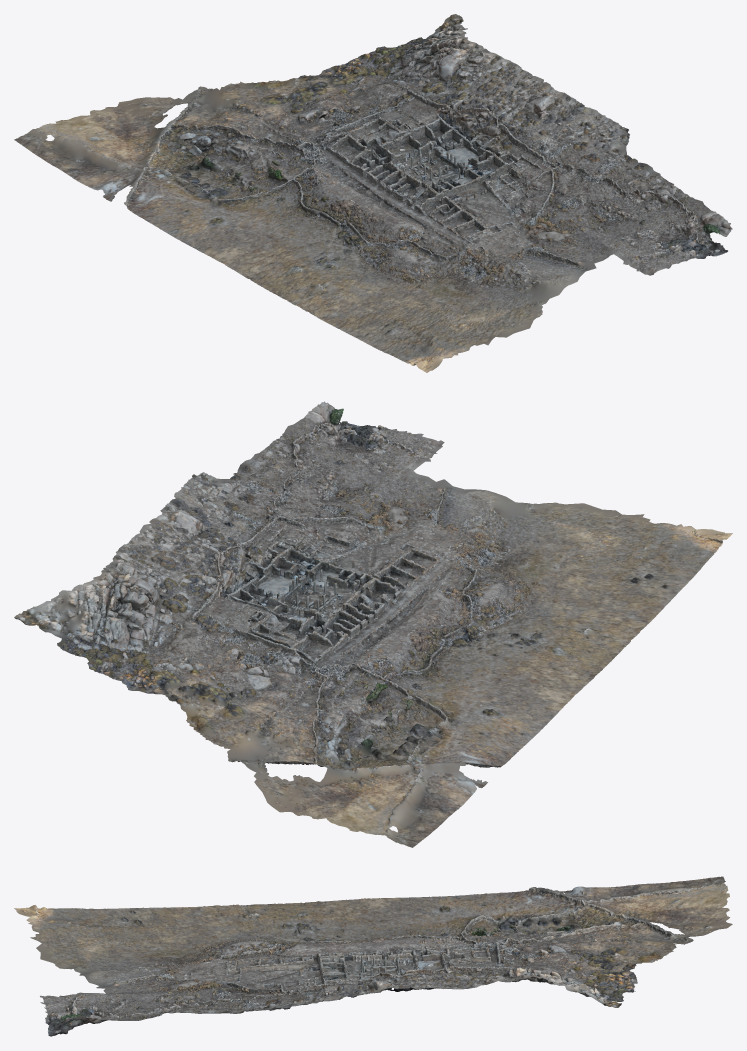
3 renders of one model, top to bottom at view 1: azimuth 30°, elevation 25°; view 2: azimuth 150°, elevation 25°; view 3: azimuth 270°, elevation 25°, orthographic. The views are drawn at different scales.
Bounding box in the file's own units: 123 × 25.24 × 185.
